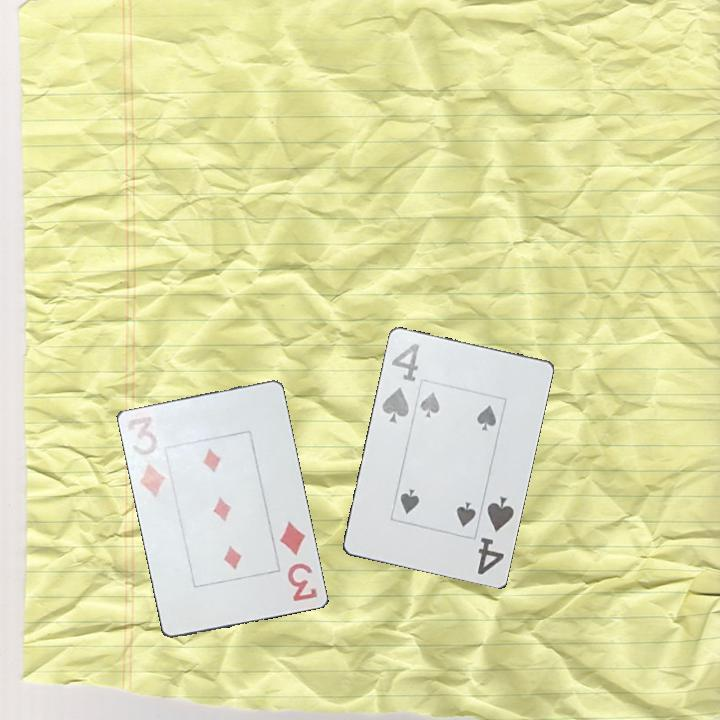3d: (123, 409, 172, 500), (276, 517, 320, 604)
4s: (379, 340, 423, 425), (474, 493, 517, 578)
